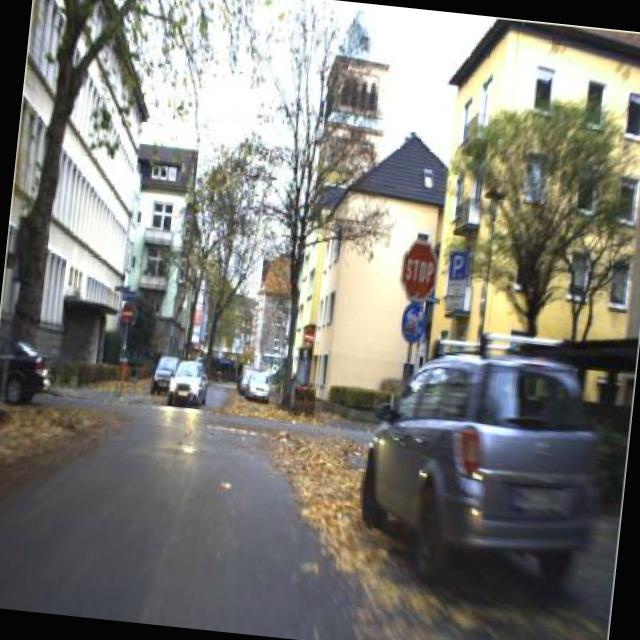Stop: (394, 238, 442, 304)
Zakaz wjazdu: (118, 300, 136, 326), (298, 324, 316, 348)
